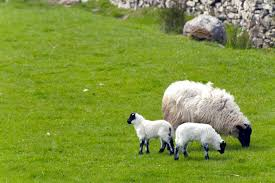sheep: (164, 78, 251, 148), (125, 113, 175, 162), (175, 120, 226, 166)
